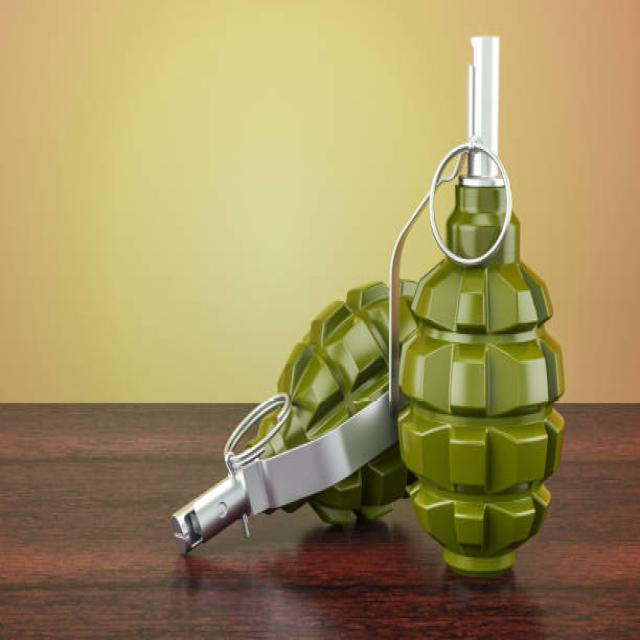grenade: (383, 33, 568, 585)
